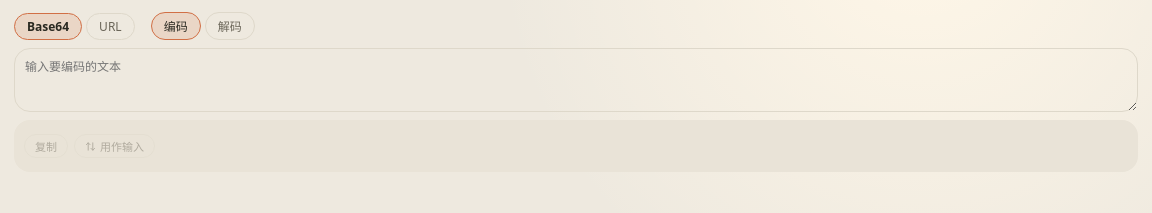
Test: ConverterPane 编码页 › 非法 Base64 显示人话错误
Click the button "解码": click(230, 26) x1=205 y1=12 x2=255 y2=40
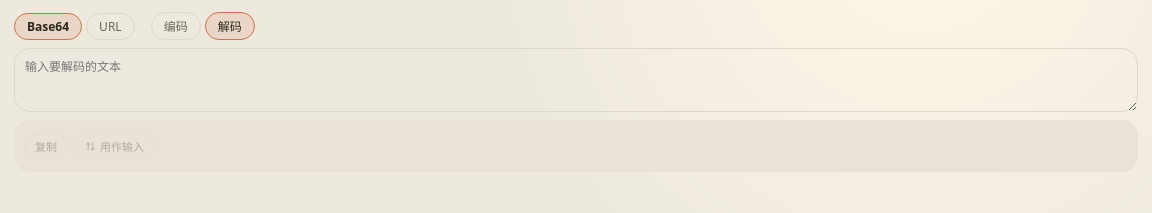
In the text box with placeholder "输入要解码的文本": (576, 80) x1=14 y1=48 x2=1138 y2=112, type "@@@@"
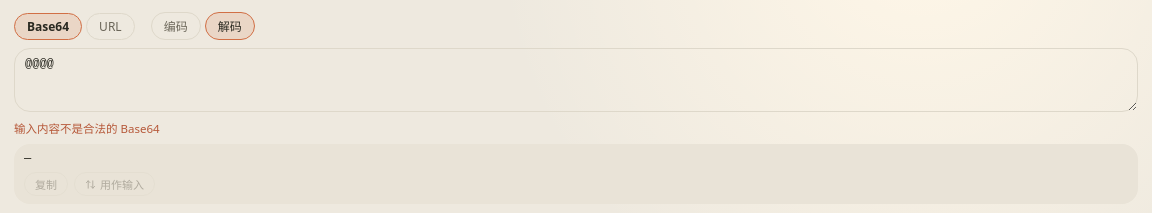
Expected: the text "输入内容不是合法的 Base64" is shown, x1=14 y1=121 x2=160 y2=136
